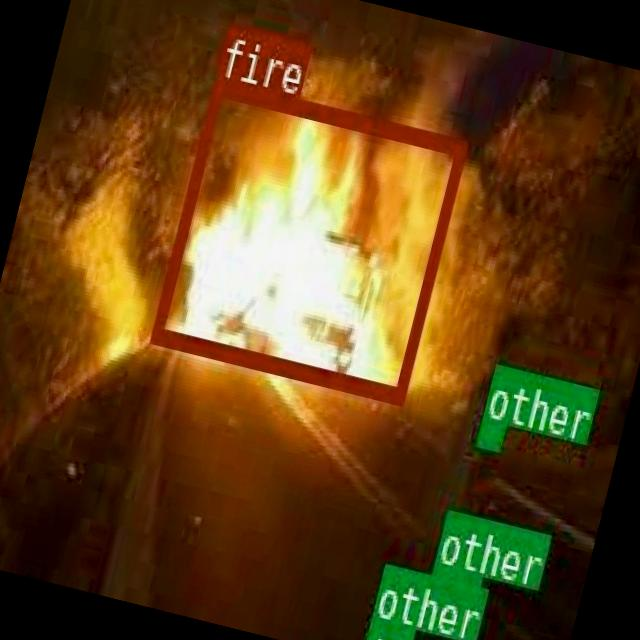fire: (149, 74, 467, 400)
